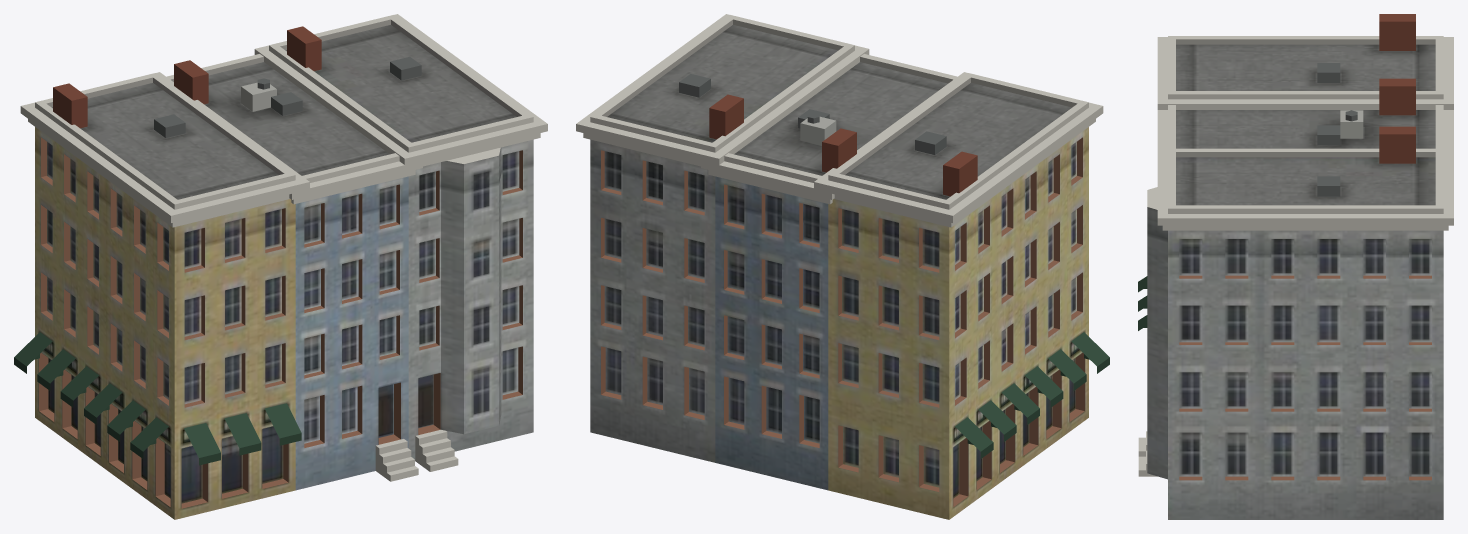
The model's file is dc_brick_row_c.glb.
3 views of the same model, side by side, from view 1: azimuth 30°, elevation 25°; view 2: azimuth 150°, elevation 25°; view 3: azimuth 270°, elevation 25° (orthographic).
Visible parts, largest first — view 1: dc_brick_row_c; view 2: dc_brick_row_c; view 3: dc_brick_row_c.
Boxes of the visible parts, x1,y1,x2,y2 form: dc_brick_row_c: [14, 14, 547, 519]; dc_brick_row_c: [576, 14, 1109, 519]; dc_brick_row_c: [1138, 14, 1453, 519].
Size of the model in its own units: 19.55 by 16.1 by 13.75.
Materials: 1 (1 with a texture image).
